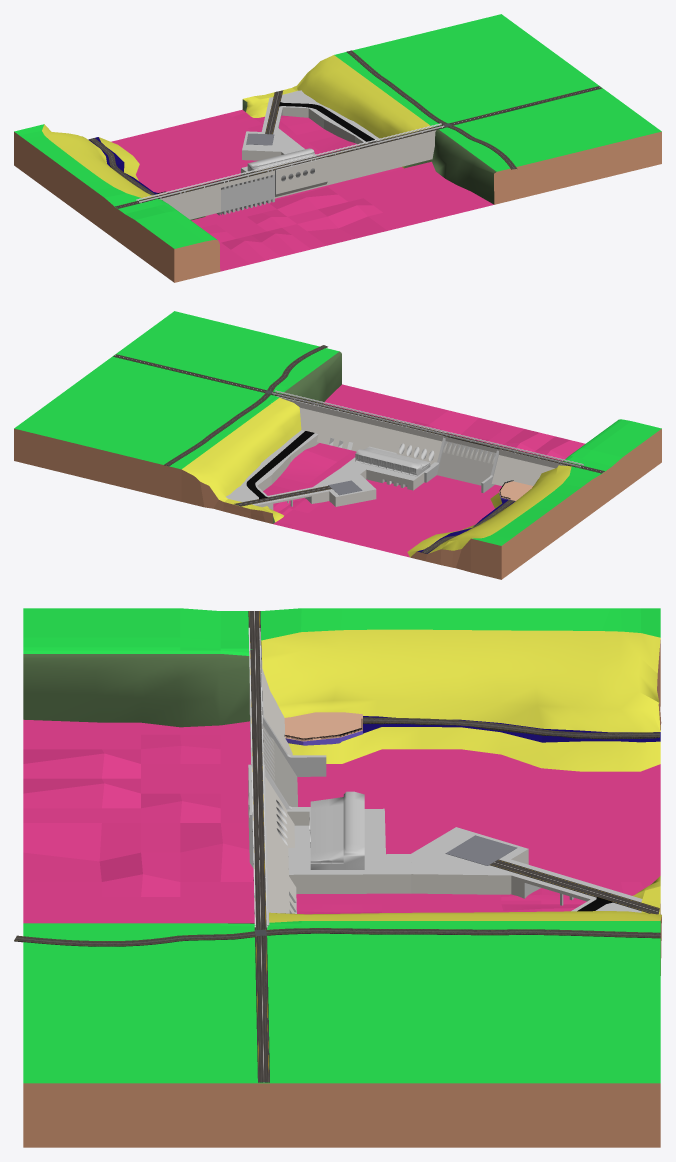
Rendered from dam-base.fbx.
3 views of the same model, one above another, from view 1: azimuth 30°, elevation 25°; view 2: azimuth 150°, elevation 25°; view 3: azimuth 270°, elevation 25° (orthographic). The views are drawn at different scales.
Visible parts, largest first — view 1: RenewableTerrain, hydropower-complete, Highway, Highway.001, Station, Barrier.001, Barrier.003, Waydam.002, Highway.002; view 2: RenewableTerrain, hydropower-complete, Highway, Station, Highway.001, Waydam.002, Barrier.003, Barrier.001, BaseLateral, Waydam.001; view 3: RenewableTerrain, hydropower-complete, Highway, Station, Highway.001, BaseLateral, Highway.002, Waydam.001, ParckingBase.
Boxes of the visible parts, x1,y1,x2,y2 form: RenewableTerrain: (14, 14, 661, 282); hydropower-complete: (159, 90, 436, 219); Highway: (115, 86, 601, 208); Highway.001: (346, 50, 517, 169); Station: (247, 148, 316, 172); Barrier.001: (139, 125, 444, 202); Barrier.003: (136, 123, 441, 200); Waydam.002: (279, 102, 375, 142); Highway.002: (89, 138, 154, 195); RenewableTerrain: (14, 311, 661, 579); hydropower-complete: (226, 396, 567, 509); Highway: (113, 354, 604, 473); Station: (355, 447, 430, 476); Highway.001: (164, 345, 327, 466); Waydam.002: (246, 431, 314, 499); Barrier.003: (272, 392, 580, 467); Barrier.001: (275, 390, 583, 465); BaseLateral: (499, 481, 532, 501); Waydam.001: (234, 485, 331, 506); RenewableTerrain: (23, 608, 661, 1147); hydropower-complete: (248, 645, 642, 925); Highway: (248, 611, 269, 1082); Station: (310, 791, 364, 869); Highway.001: (14, 928, 660, 946); BaseLateral: (284, 712, 362, 745); Highway.002: (363, 717, 659, 739); Waydam.001: (489, 859, 659, 914); ParckingBase: (445, 835, 517, 865).
Bounding box in the file's own units: 60774 × 4615 × 35245.
